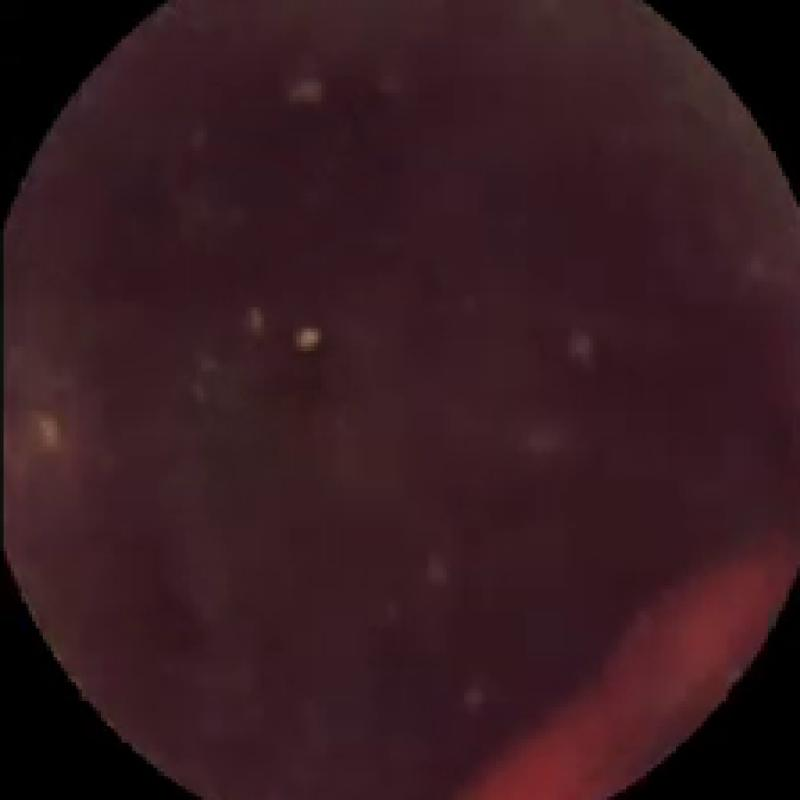bleeding: (471, 546, 786, 796)
